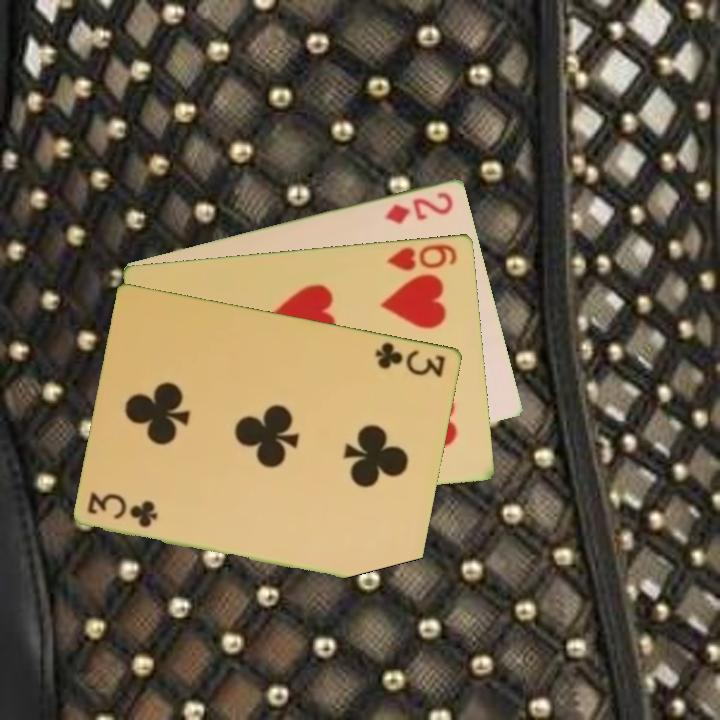2d: (381, 188, 456, 227)
3c: (372, 338, 448, 380), (84, 489, 161, 530)
6h: (384, 240, 460, 273)
